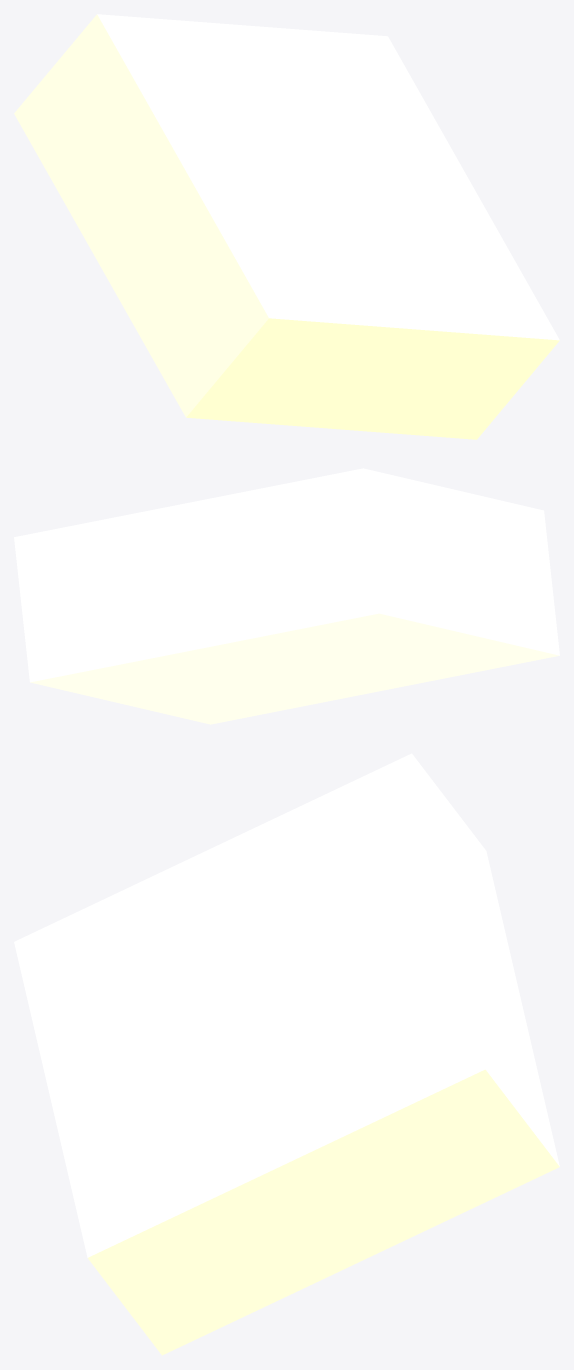
The model's file is confetti.glb.
3 renders of one model, top to bottom at view 1: azimuth 30°, elevation 25°; view 2: azimuth 150°, elevation 25°; view 3: azimuth 270°, elevation 25°, orthographic. The views are drawn at different scales.
Parts seen in each view (by area): view 1: Bit; view 2: Bit; view 3: Bit.
Part boxes in pixels (bbox=[...]): Bit: bbox=[14, 14, 559, 439]; Bit: bbox=[14, 468, 559, 724]; Bit: bbox=[14, 753, 559, 1355].
Size of the model in its own units: 0.1737 by 0.1787 by 0.1938.
